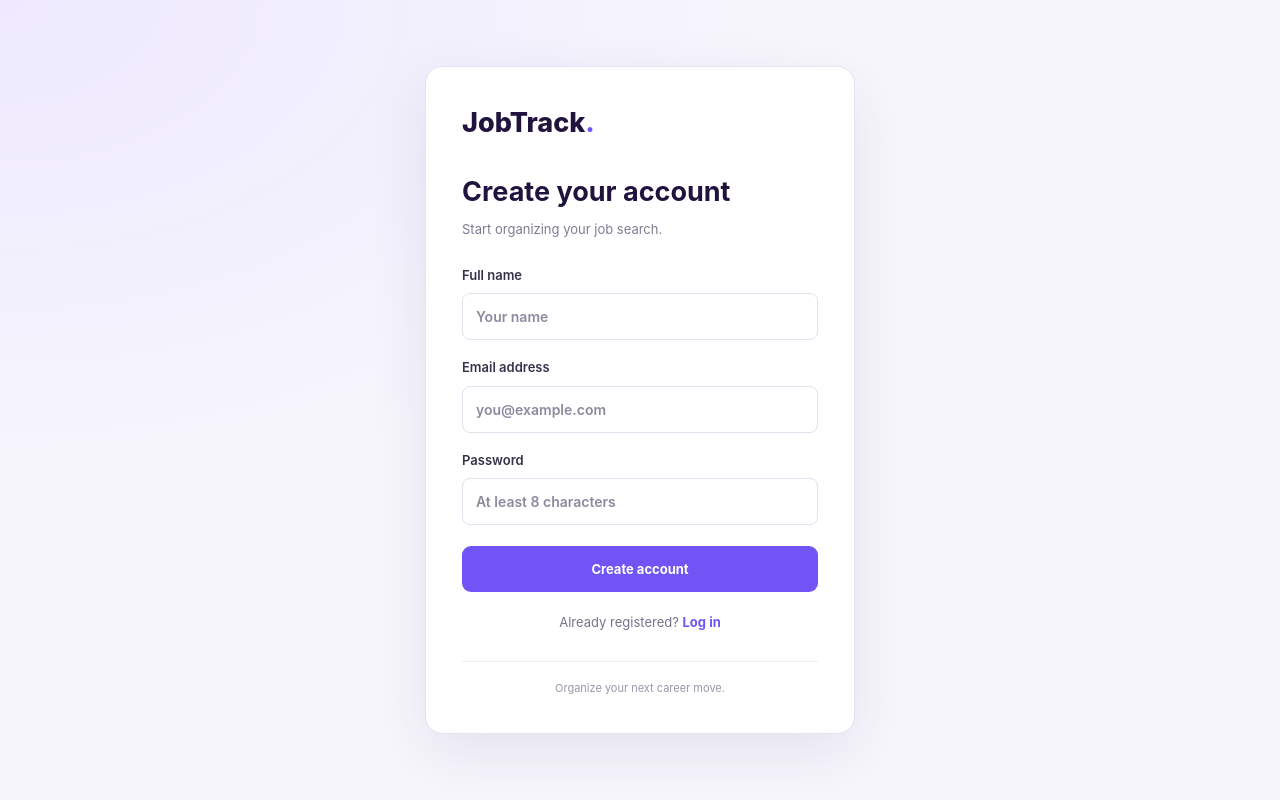
Test: JobTrack authentication UI › signs up and stores the session after successful signup
Type "Test User" into the field labelled "Full name" at (640, 317), box top-left (462, 293), bottom-right (818, 340)
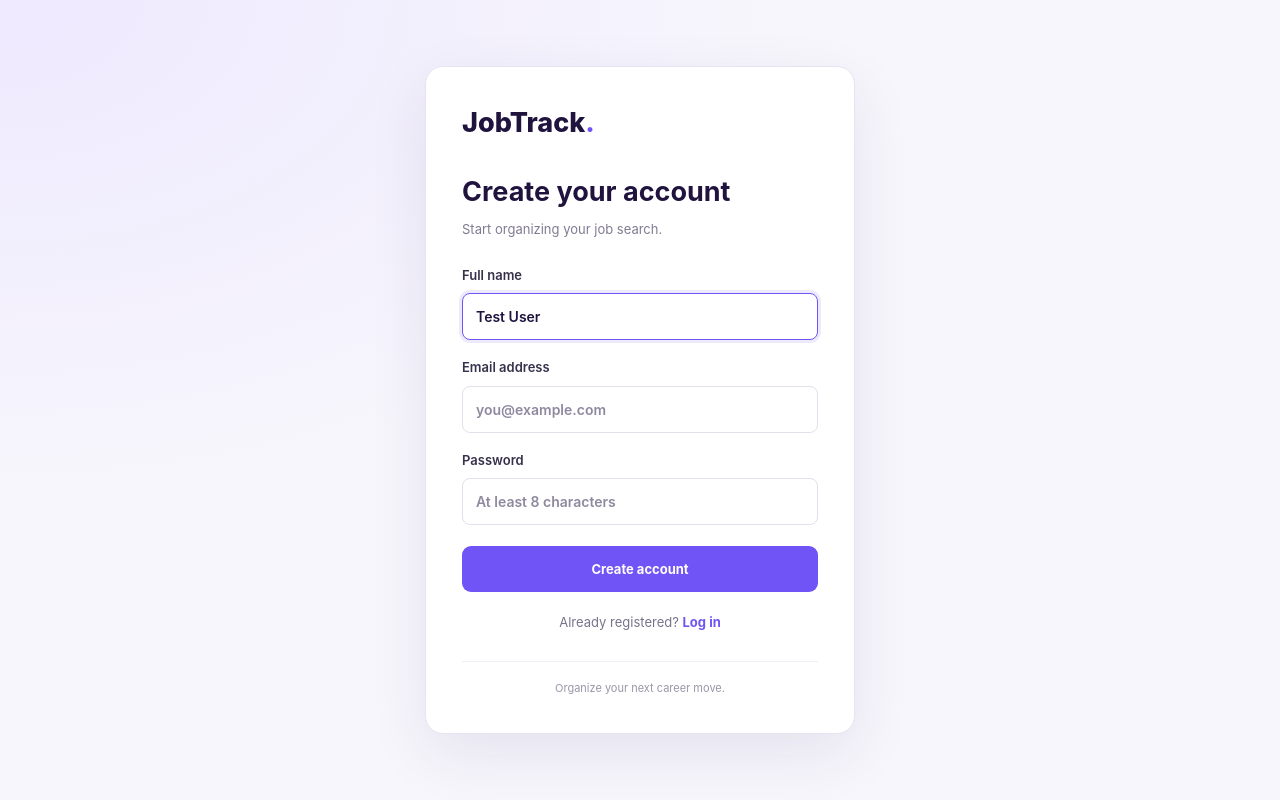
Type "test@example.com" into the field labelled "Email address" at (640, 409), box top-left (462, 386), bottom-right (818, 433)
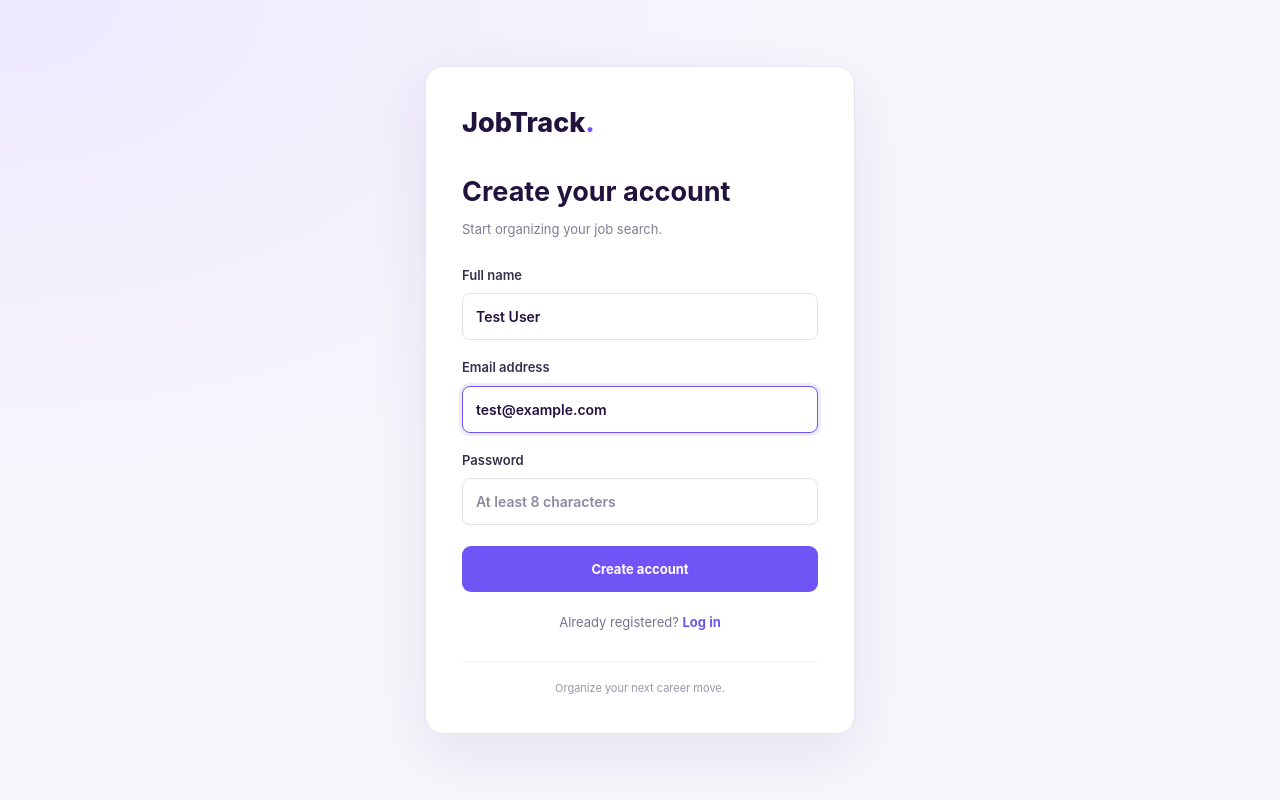
Type "TestPass123!" into the password field labelled "Password" at (640, 502), box top-left (462, 478), bottom-right (818, 525)
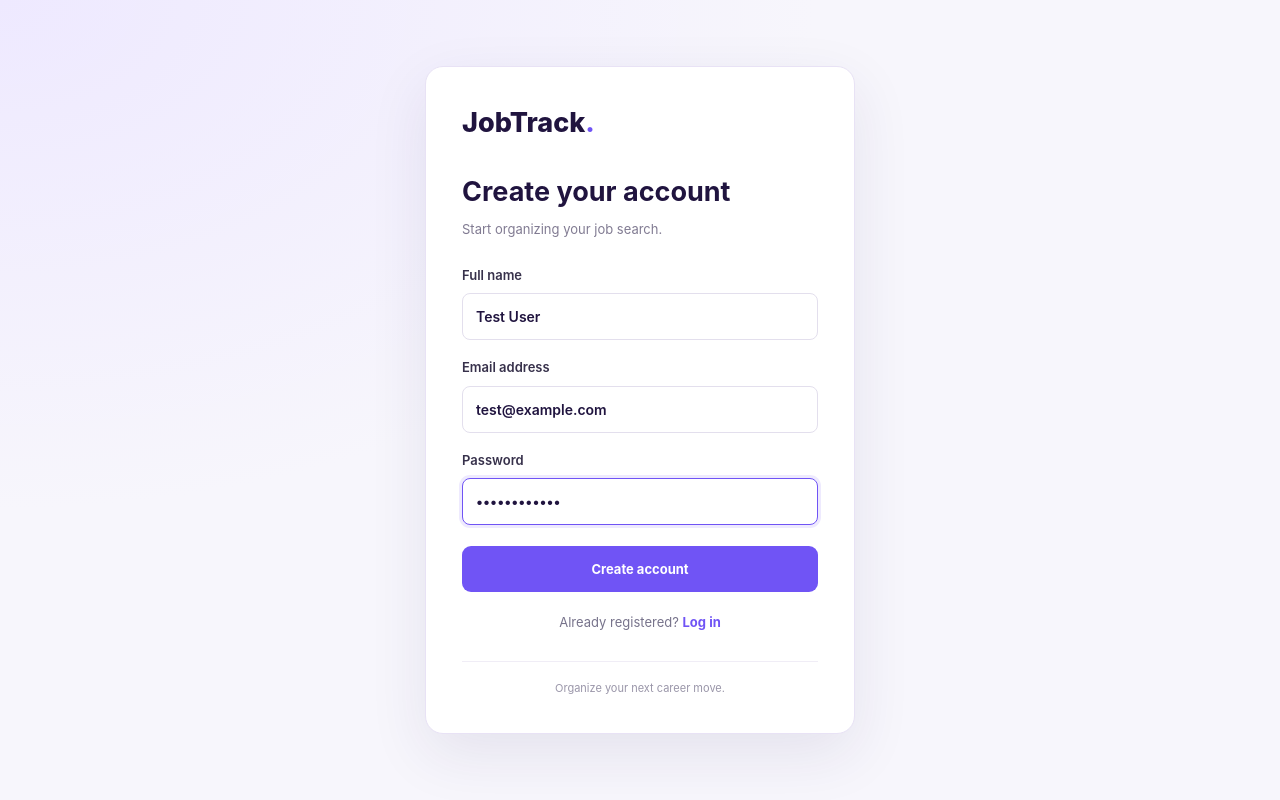
Click the button "Create account" at (640, 569), box top-left (462, 546), bottom-right (818, 592)
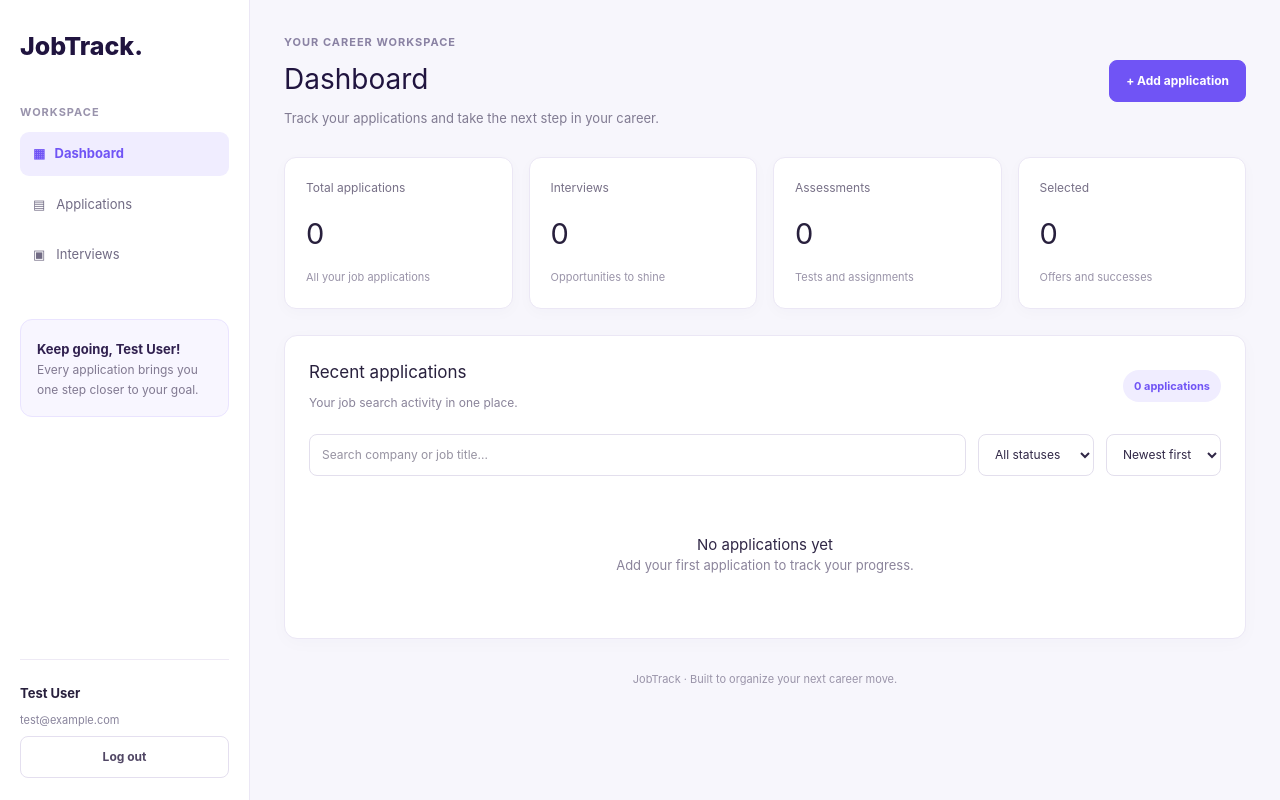
expect the heading "Dashboard" is shown: met, box top-left (284, 62), bottom-right (428, 96)
expect the text "Track your applications and take the next step in your career" is shown: met, box top-left (284, 110), bottom-right (659, 126)
